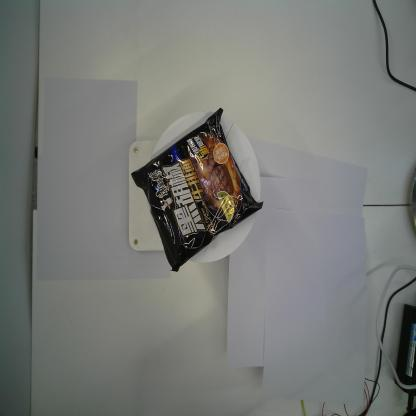Instant Noodles: (130, 106, 265, 273)
